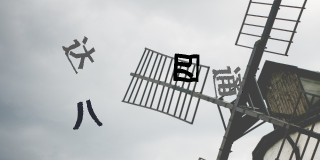八: (71, 99, 104, 130)
四: (172, 52, 200, 82)
达: (62, 35, 96, 74)
通: (211, 64, 247, 98)
